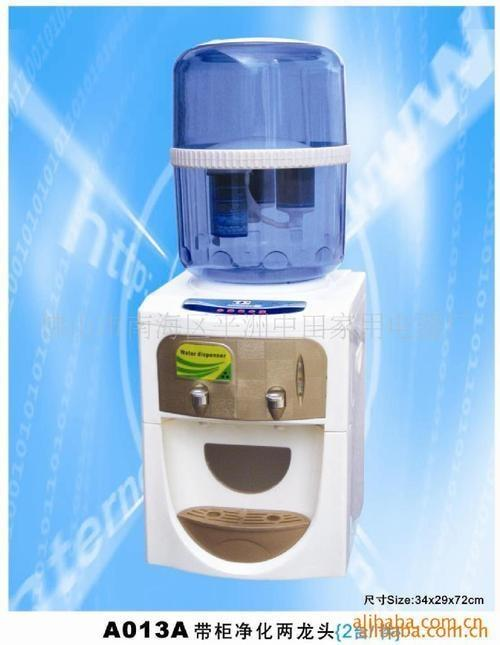Dispenser: (136, 37, 364, 578)
